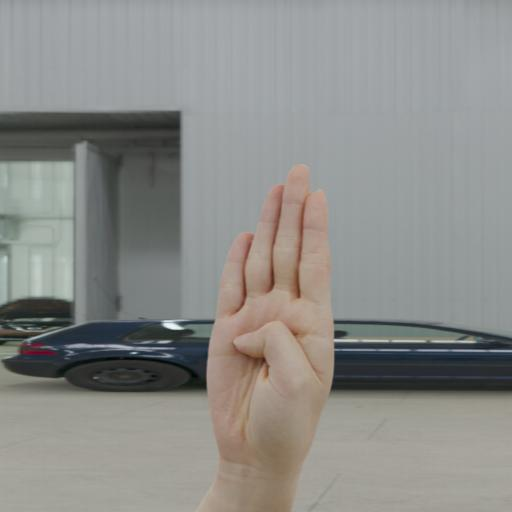B: (200, 156, 346, 497)
